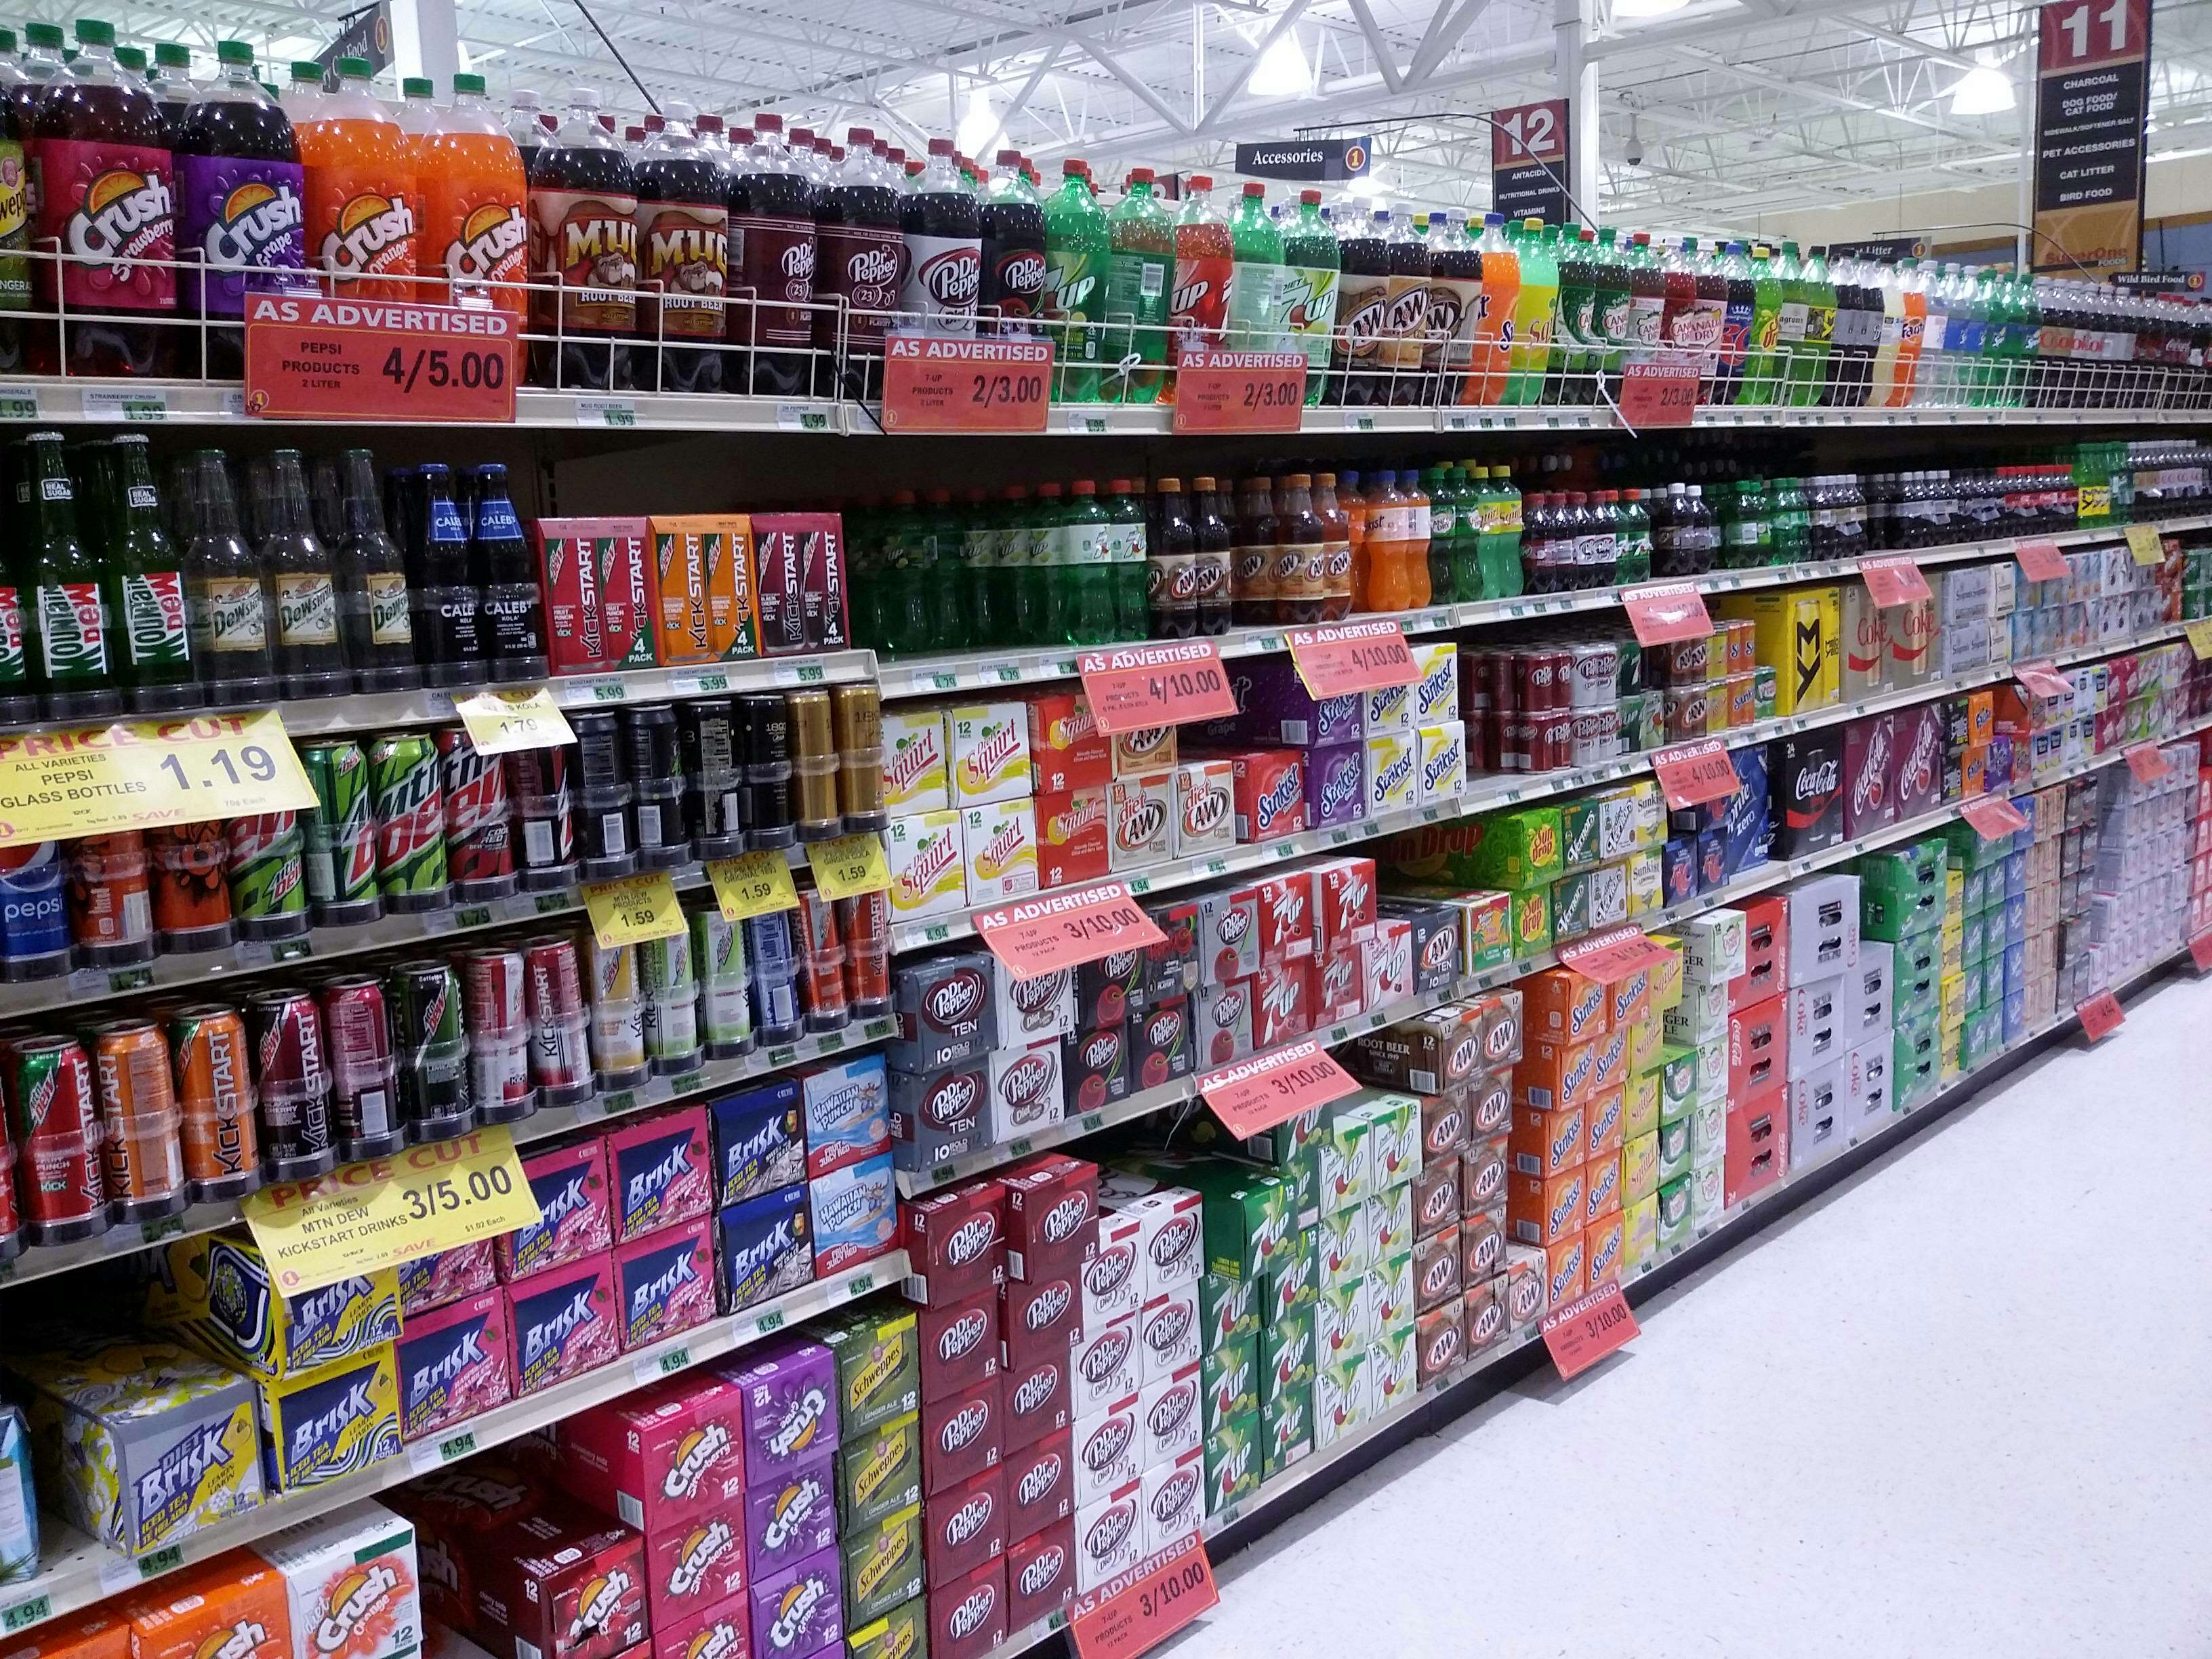Out-of-stock: (876, 495, 1080, 673), (1467, 647, 1538, 793), (1231, 495, 1292, 636), (1350, 490, 1385, 622)
